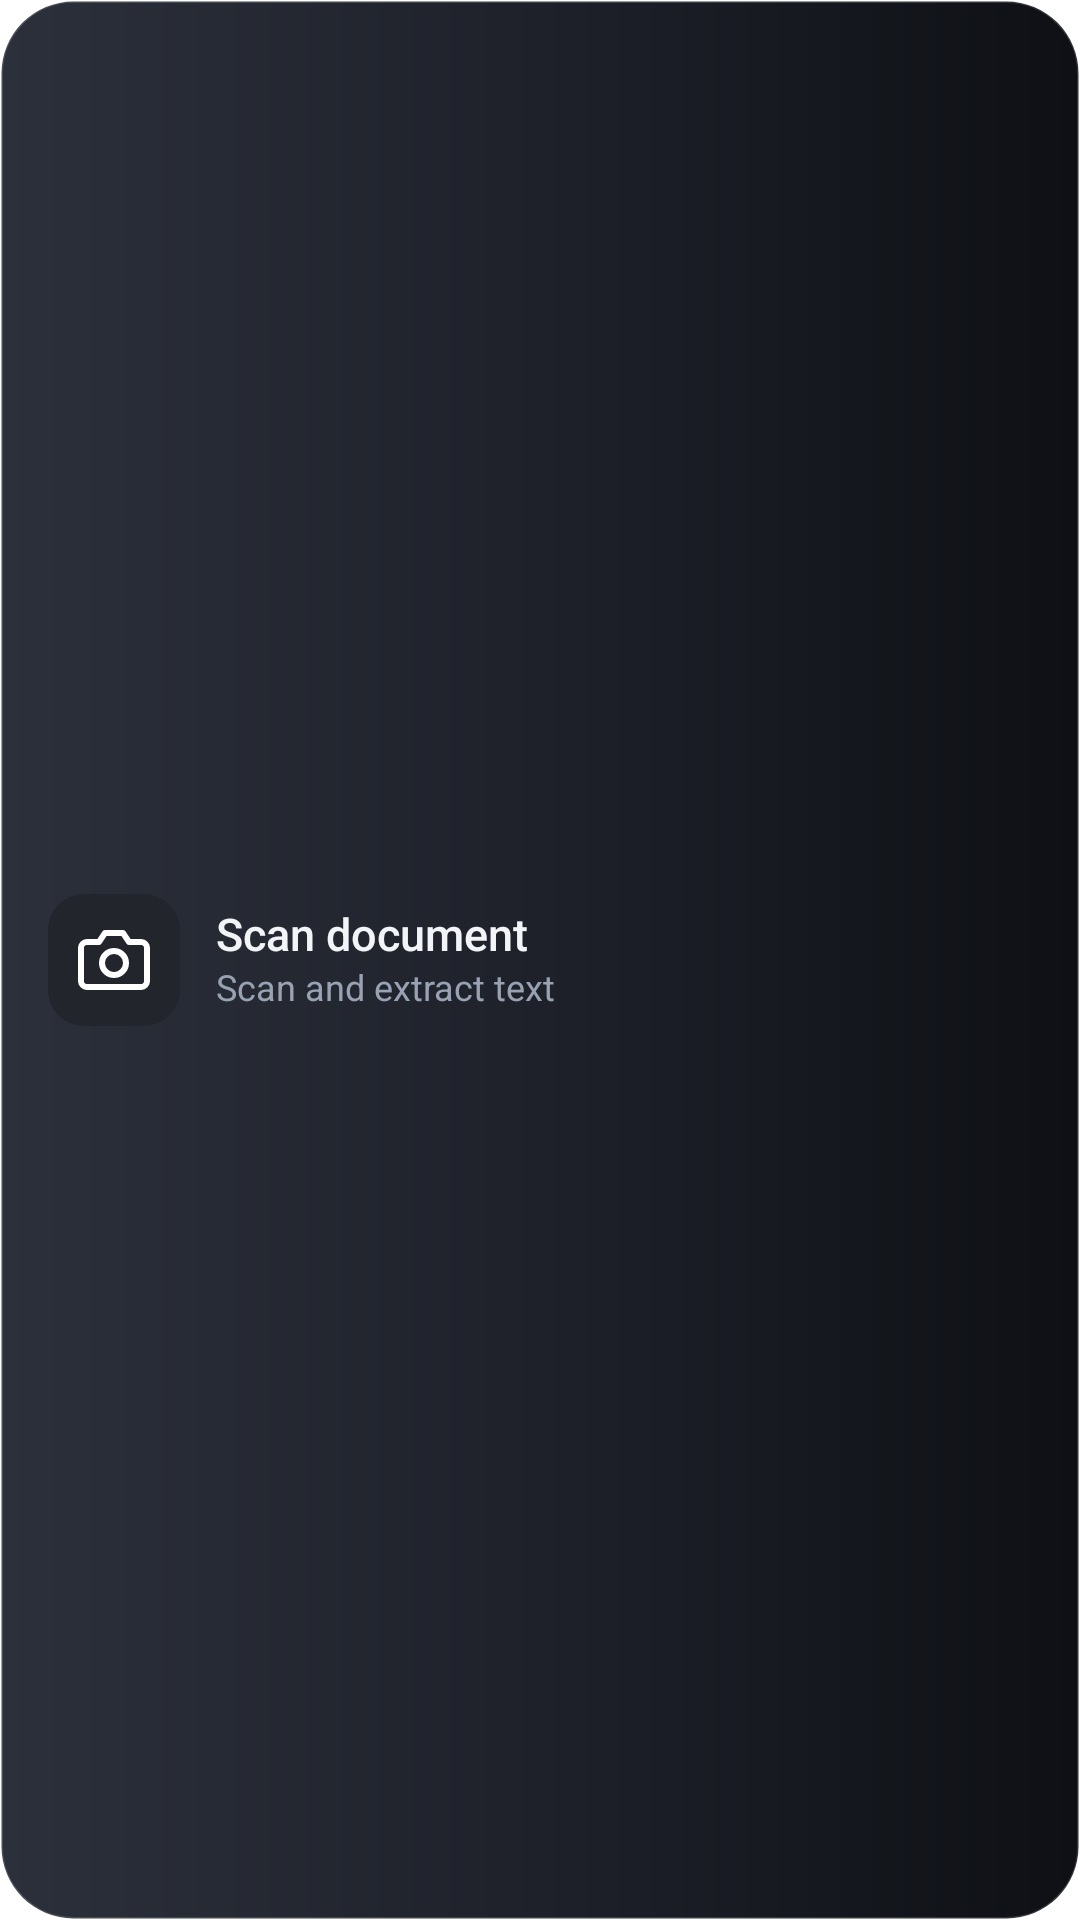

Named icons in this screenshot (1080 x 1920) and their centers, [x,y]:
Scanner: [114,960]
